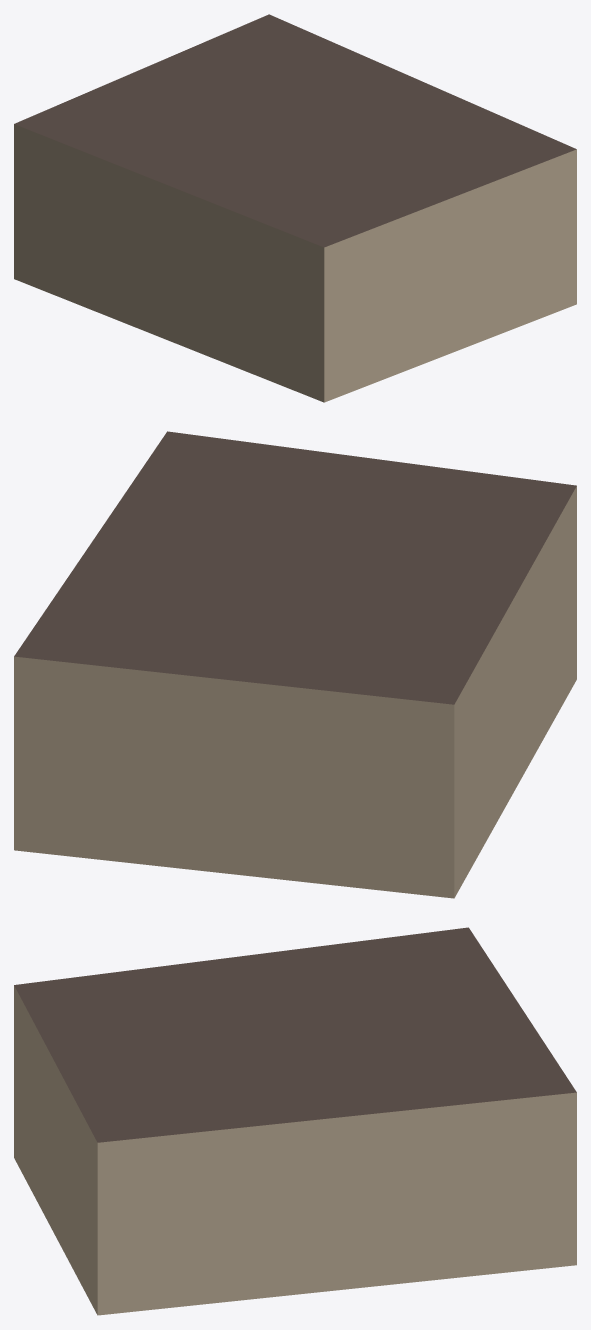
3 views of the same model, one above another, from view 1: azimuth 30°, elevation 25°; view 2: azimuth 150°, elevation 25°; view 3: azimuth 270°, elevation 25° (orthographic). The views are drawn at different scales.
Visible parts, largest first — view 1: HP-w378107162; view 2: HP-w378107162; view 3: HP-w378107162.
Part boxes in pixels (left/top/right/bottom): HP-w378107162: left=14, top=14, right=576, bottom=402; HP-w378107162: left=14, top=431, right=576, bottom=898; HP-w378107162: left=14, top=927, right=576, bottom=1315.
Size of the model in its own units: 24.07 by 9 by 26.59.
